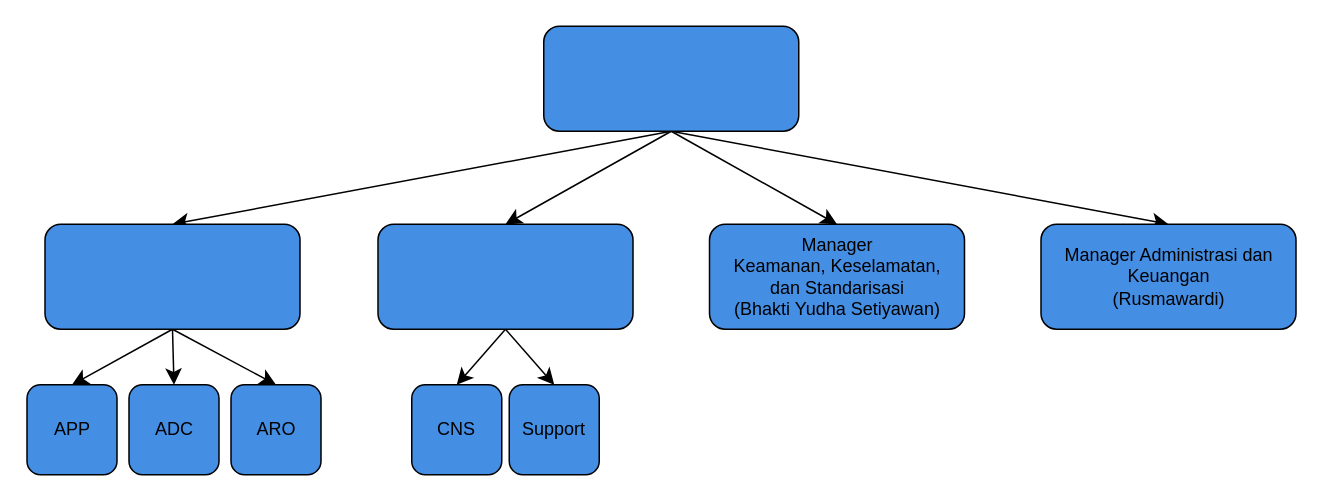
The diagram is 1322 pixels wide and 501 high, and some of its shapes have lost their labels. The shapes that lost their labels are listed below. From the top down, each one's centre as x and y in pixels, then its label:
[670,78]: General Manager (Budi Mahmudi)
[172,276]: Manager Operasi (Salafudin)
[504,276]: Manager Teknik (Dodi Budhi Iswanto)
